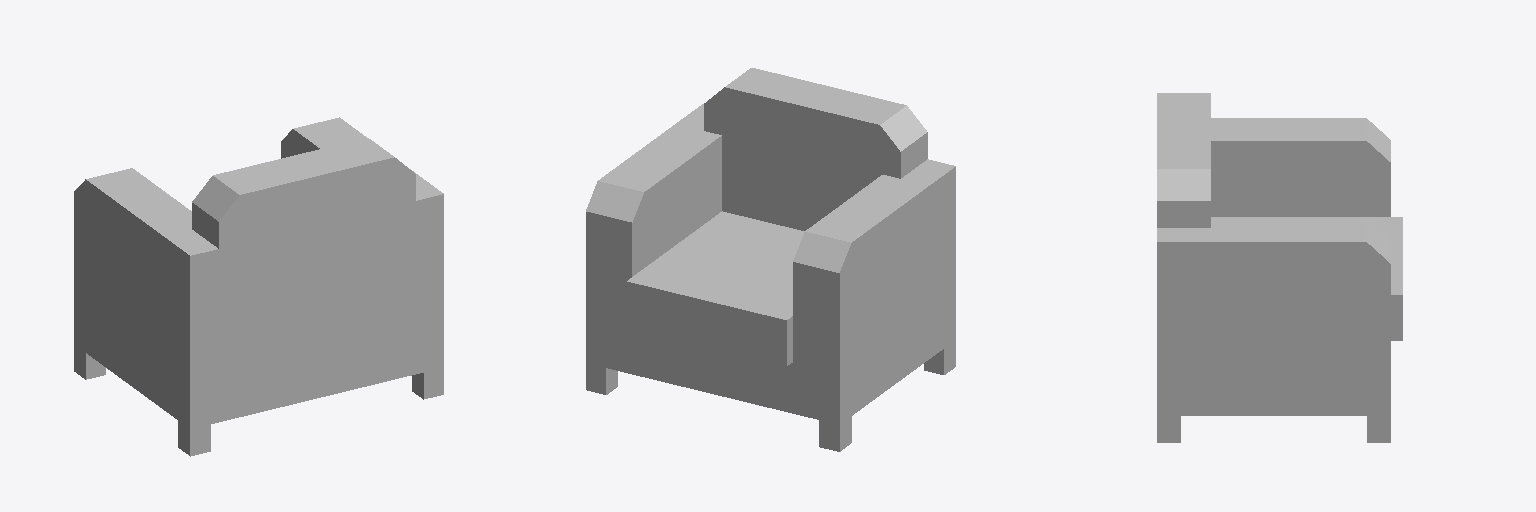
Rendered from loungeChair.obj.
3 renders of one model, left to right at view 1: azimuth 30°, elevation 25°; view 2: azimuth 150°, elevation 25°; view 3: azimuth 270°, elevation 25°, orthographic.
Visible parts, largest first — view 1: loungeChair; view 2: loungeChair; view 3: loungeChair.
Boxes of the visible parts, <box> form: loungeChair: <box>74,117,443,456</box>; loungeChair: <box>586,68,955,451</box>; loungeChair: <box>1157,93,1402,442</box>.
Size of the model in its own units: 0.49 by 0.46 by 0.41.